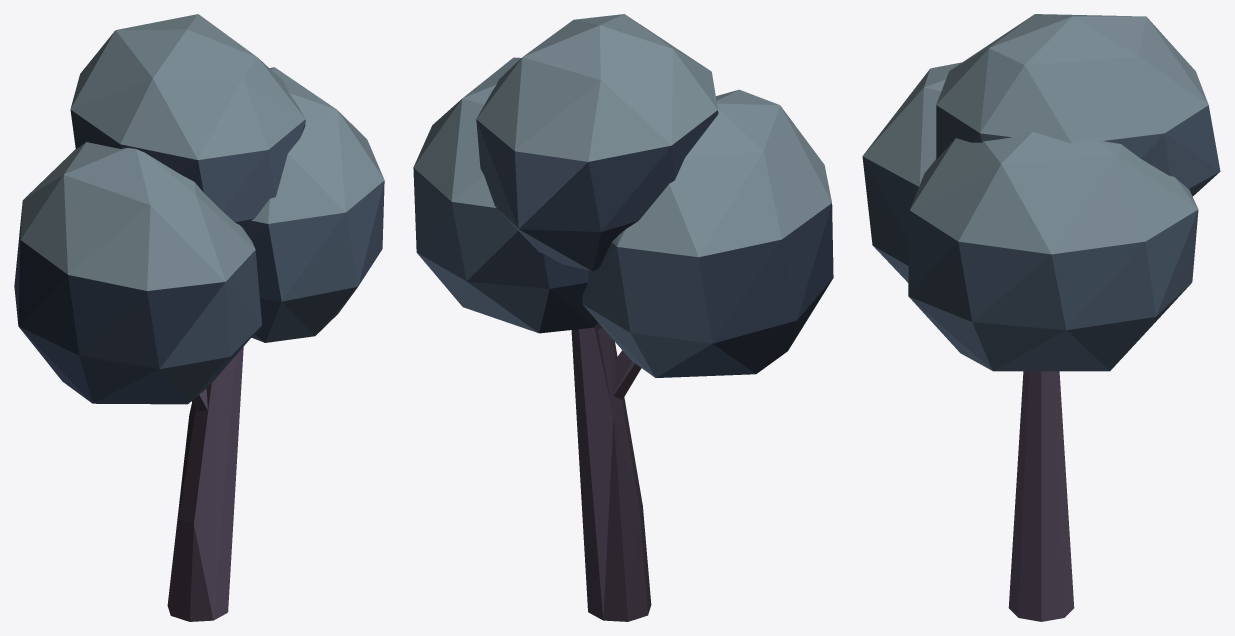
Rendered from TW_TREE_ROUND_SMALL_A_LOD1.glb.
The picture shows the model from 3 angles, left to right: view 1: azimuth 30°, elevation 25°; view 2: azimuth 150°, elevation 25°; view 3: azimuth 270°, elevation 25°; orthographic projection. The views are drawn at different scales.
Visible parts, largest first — view 1: TW_TREE_ROUND_SMALL_A_LOD1; view 2: TW_TREE_ROUND_SMALL_A_LOD1; view 3: TW_TREE_ROUND_SMALL_A_LOD1.
Part boxes in pixels (<box>): TW_TREE_ROUND_SMALL_A_LOD1: <box>14,14,384,621</box>; TW_TREE_ROUND_SMALL_A_LOD1: <box>413,14,833,621</box>; TW_TREE_ROUND_SMALL_A_LOD1: <box>862,14,1220,621</box>.
Size of the model in its own units: 1.8 by 2.8 by 1.53.
Materials: 1 (1 with a texture image).
